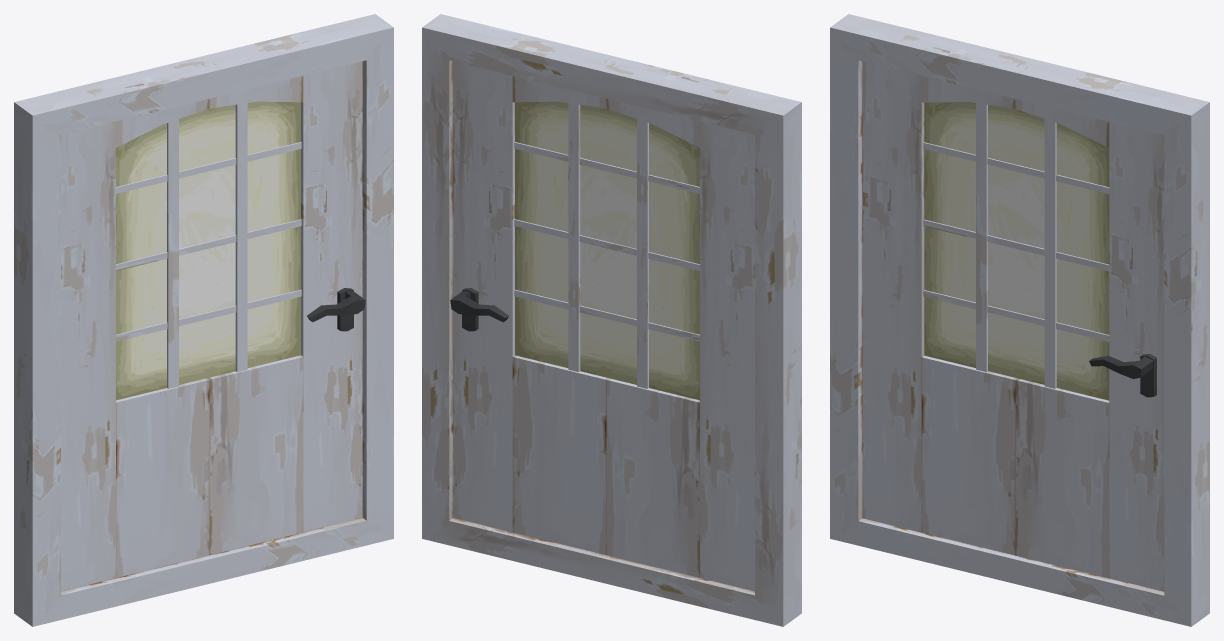
The model's file is MOD_Door_03_02.fbx.
3 renders of one model, left to right at view 1: azimuth 30°, elevation 25°; view 2: azimuth 150°, elevation 25°; view 3: azimuth 330°, elevation 25°, orthographic.
Visible parts, largest first — view 1: MOD_Door_03_02; view 2: MOD_Door_03_02; view 3: MOD_Door_03_02.
Boxes of the visible parts, x1,y1,x2,y2 form: MOD_Door_03_02: (14, 14, 393, 626); MOD_Door_03_02: (422, 14, 801, 626); MOD_Door_03_02: (830, 14, 1209, 626).
Size of the model in its own units: 176 by 238 by 33.83.
